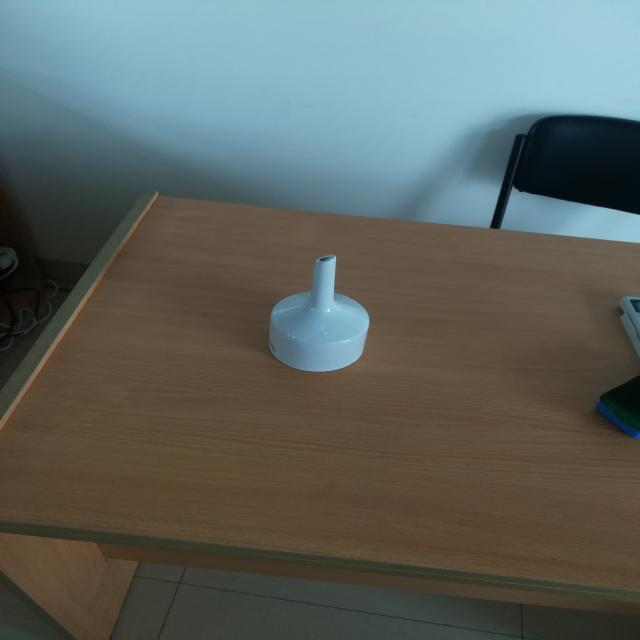Buchner_Funnel: (243, 233, 398, 399)
